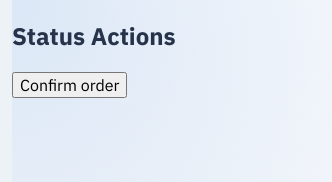
Test: SalesOrderStatusActions › shows error when update fails
What coordinates should you click on to do the following:
click the button "Confirm order"
I would click on:
 (70, 85)
Its box is [12, 72, 127, 98].
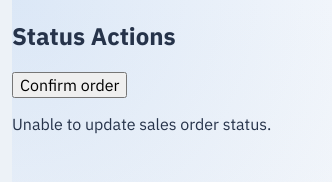
Expected: the message reads "Unable to update sales order status.", [12, 114, 271, 134]
